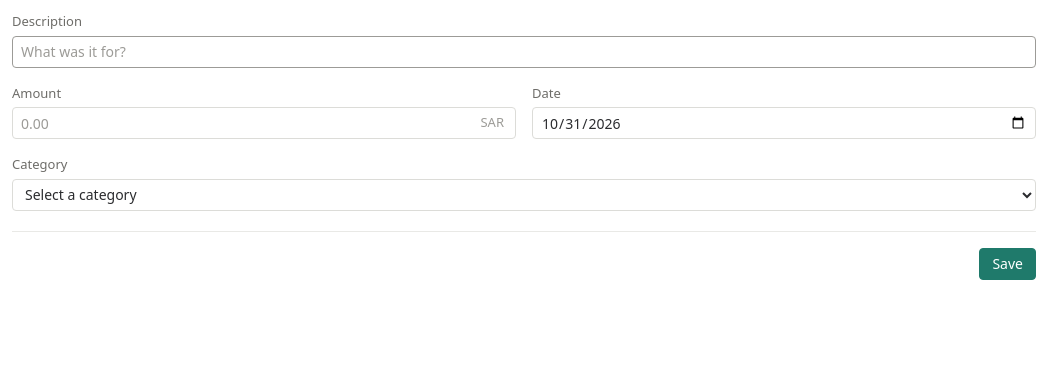
Scenario: ExpenseForm server errors › shows ValidationProblemDetails errors under fields and above the form
Select "Food" in the dropdown labelled "Category" at [524, 194], box [12,178,1036,210]
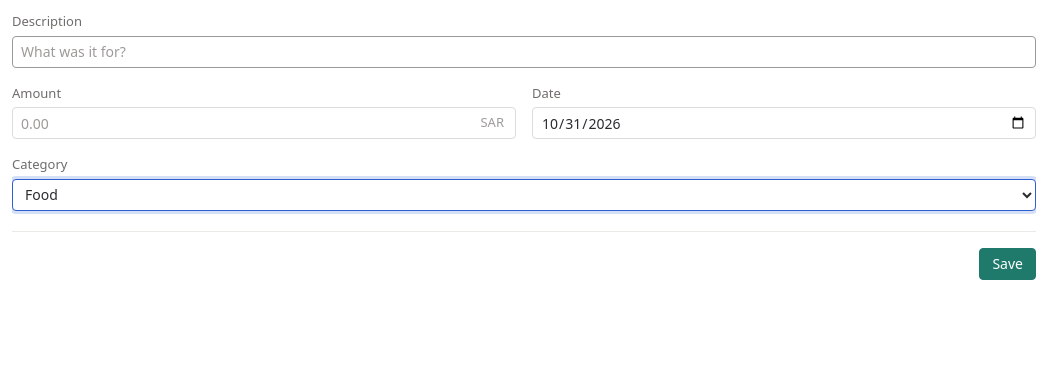
Type "12.50" into the number field labelled "Amount" at [264, 123], box [12,107,516,139]
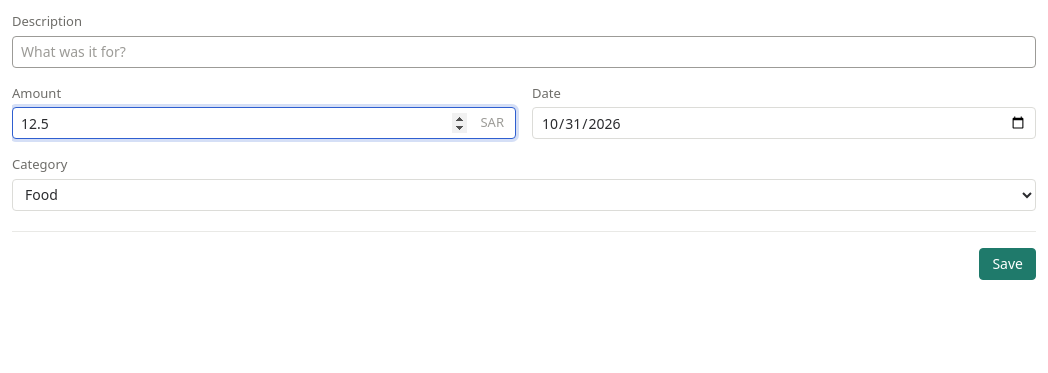
Type "  Lunch  " into the field labelled "Description" at [524, 52], box [12,36,1036,68]
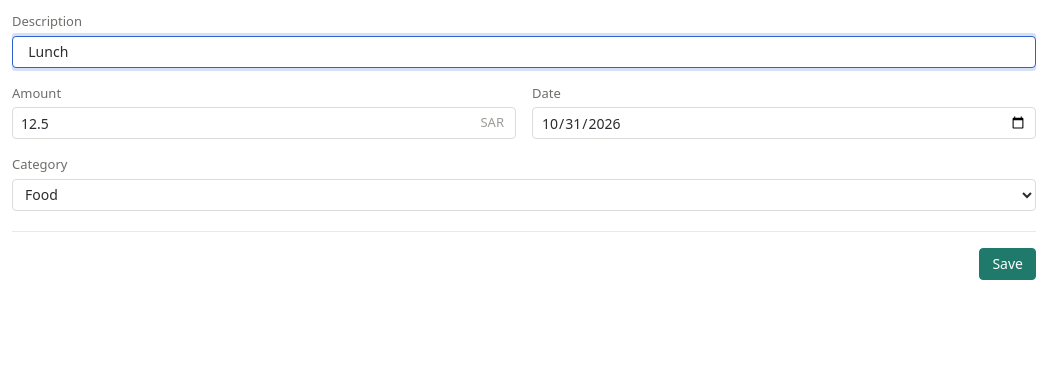
Type "2026-10-01" into the date field labelled "Date" at [784, 123], box [532,107,1036,139]
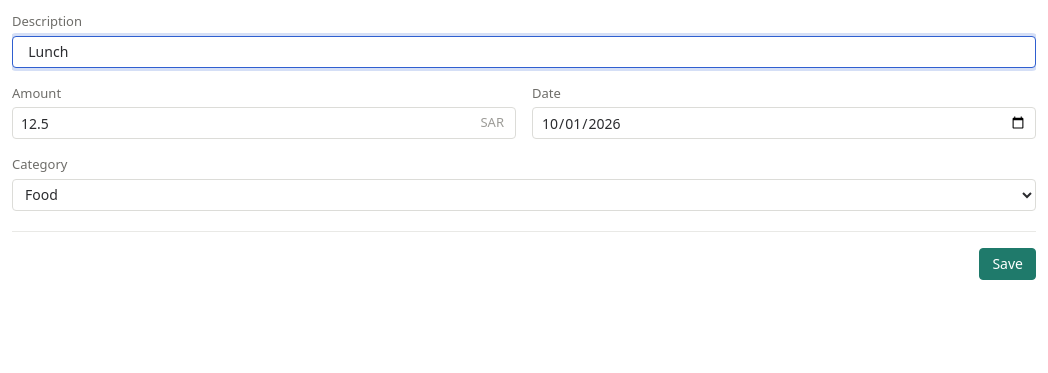
Click the button "Save" at [1008, 264], box [979,248,1036,280]
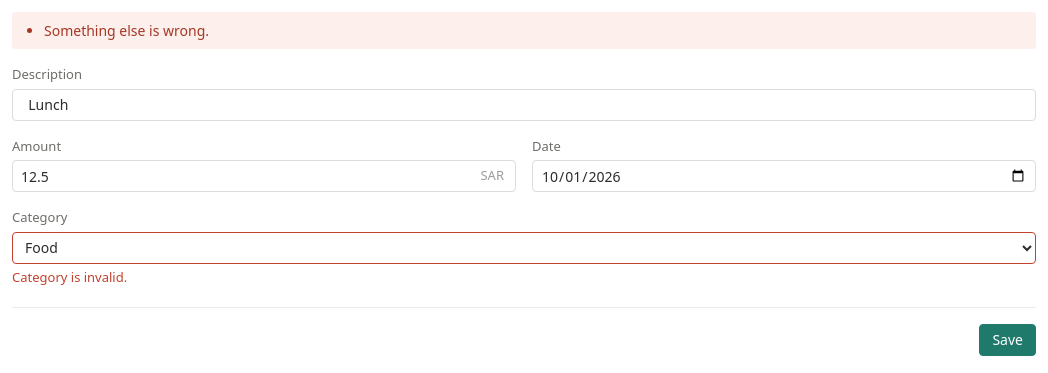
Expected: the text "Category is invalid." is shown, [12,268,127,286]
Expected: the list item "Something else is wrong." is shown, [44,21,209,40]
